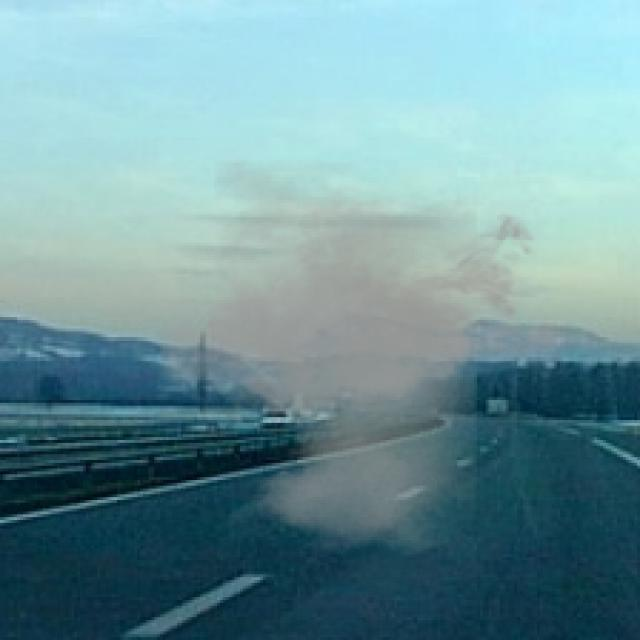smoke: (143, 160, 548, 554)
